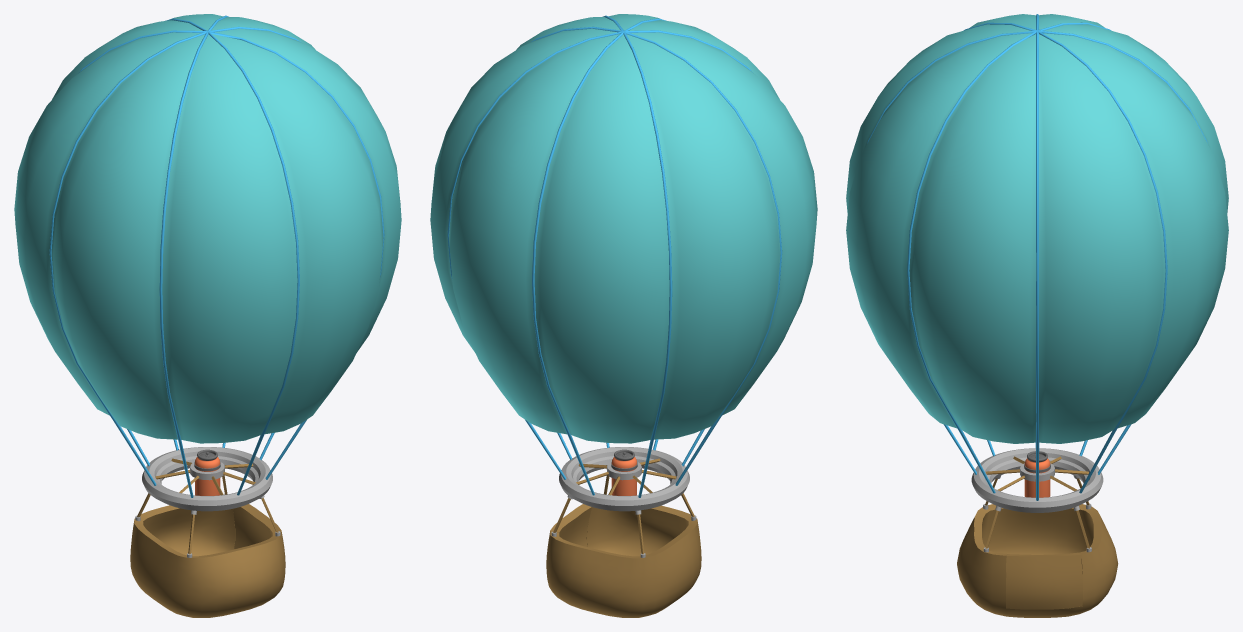
The model's file is airballoon.fbx.
The picture shows the model from 3 angles, left to right: view 1: azimuth 30°, elevation 25°; view 2: azimuth 150°, elevation 25°; view 3: azimuth 270°, elevation 25°; orthographic projection.
Parts seen in each view (by area): view 1: airballoon; view 2: airballoon; view 3: airballoon.
Part boxes in pixels (x1,y1,x2,y2): airballoon: (14, 14, 401, 617); airballoon: (430, 14, 817, 617); airballoon: (846, 14, 1228, 617).
Bounding box in the file's own units: 1242 × 2056 × 1242.
